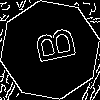B: (25, 25, 77, 68)
